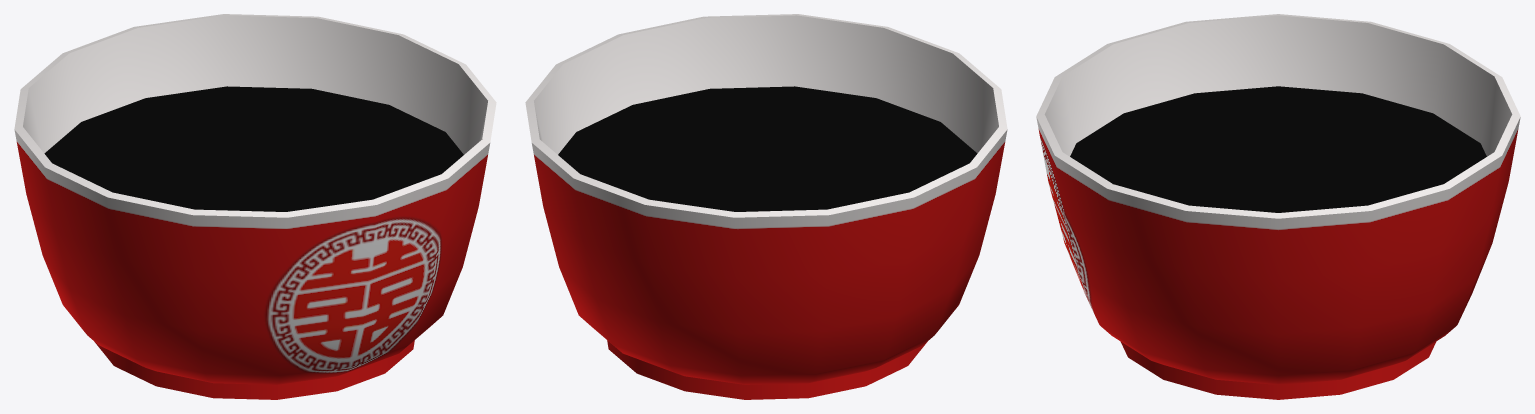
The model's file is sweet__soup.fbx.
3 renders of one model, left to right at view 1: azimuth 30°, elevation 25°; view 2: azimuth 150°, elevation 25°; view 3: azimuth 270°, elevation 25°, orthographic.
Visible parts, largest first — view 1: 立方體.035, 立方體.047; view 2: 立方體.035, 立方體.047; view 3: 立方體.035, 立方體.047.
Part boxes in pixels (x1,y1,x2,y2): 立方體.035: (14,14,496,399); 立方體.047: (44,86,463,211); 立方體.035: (525,14,1007,399); 立方體.047: (558,86,977,211); 立方體.035: (1036,14,1520,399); 立方體.047: (1070,86,1486,212).
Size of the model in its own units: 2.02 by 2.02 by 0.9987.
